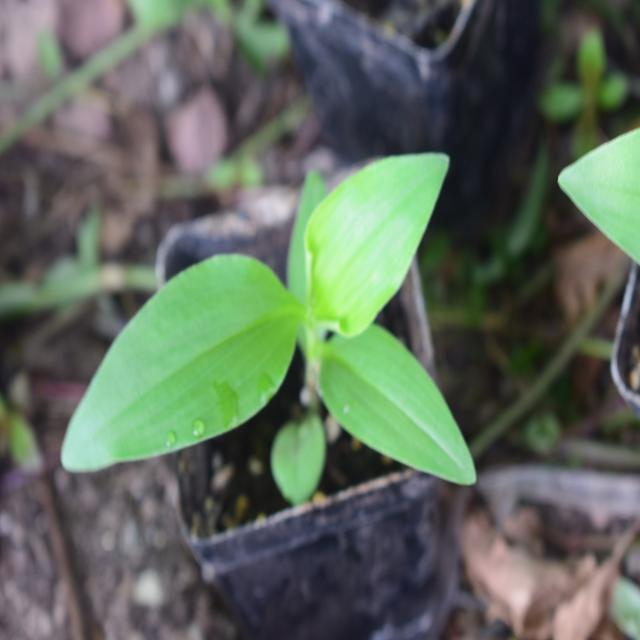Common Dayflower: (56, 146, 492, 507)
